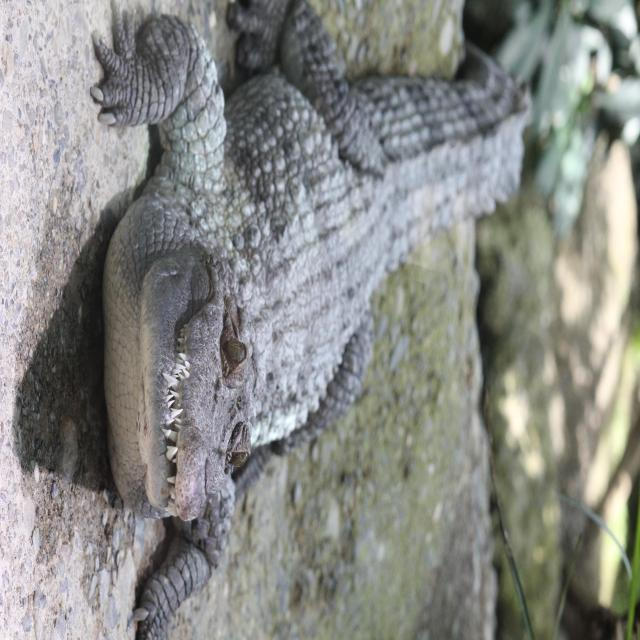crocodile: (70, 0, 569, 640)
